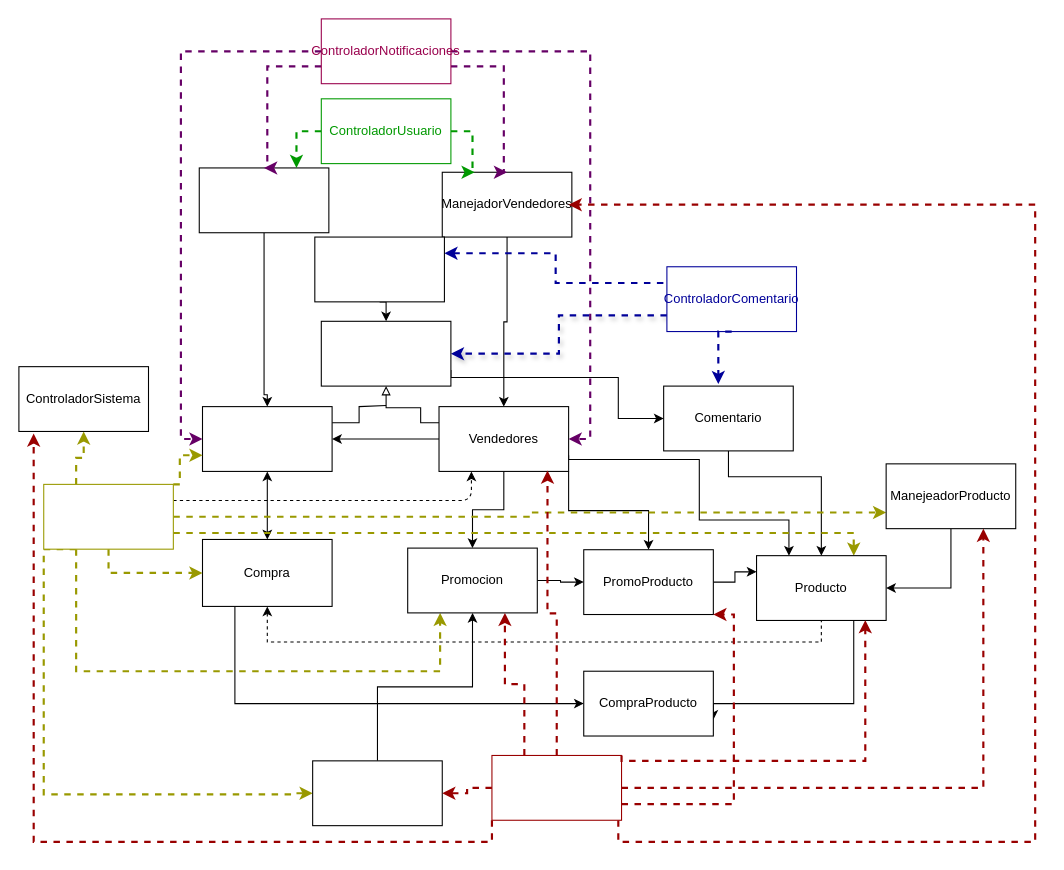
This 1064x870 diagram has some shape labels left out. Each missing label, with the centre of its shape:
Clientes: the point at 266,438
ControladorCompra: the point at 108,516
ControladorPromocion: the point at 556,787
ManejadorClientes: the point at 263,200
ManejadorPromocion: the point at 377,793
ManejadorUsuario: the point at 379,269
Usuario: the point at 385,353
